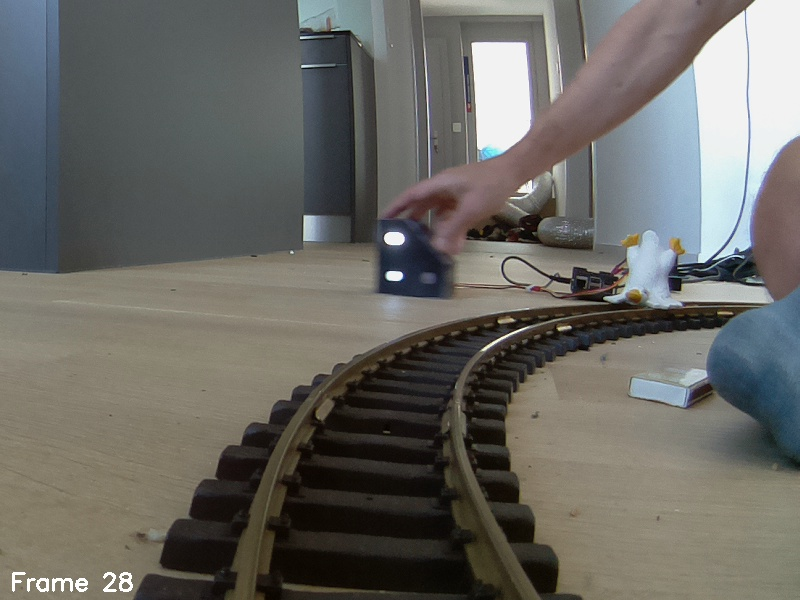Fahrt: (379, 214, 455, 302)
